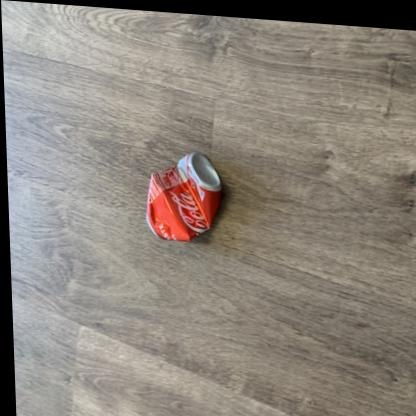trash: (146, 152, 220, 240)
